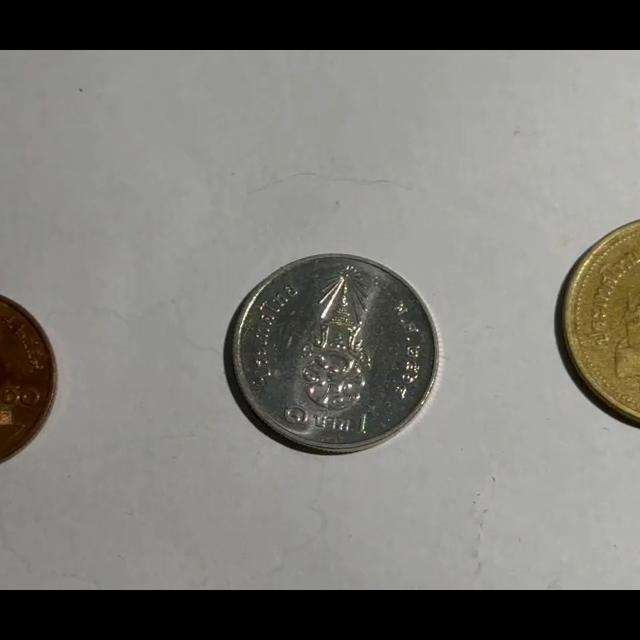1-baht: (226, 254, 441, 454)
2-baht: (556, 216, 640, 430)
50-satang: (0, 289, 57, 474)
